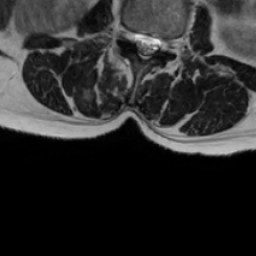CCS_normal: (141, 22, 150, 67)
LFS_normal: (161, 26, 173, 60)
LLS_normal: (150, 23, 161, 59)
RFS_normal: (123, 16, 133, 49)
RLS_normal: (133, 20, 141, 59)
